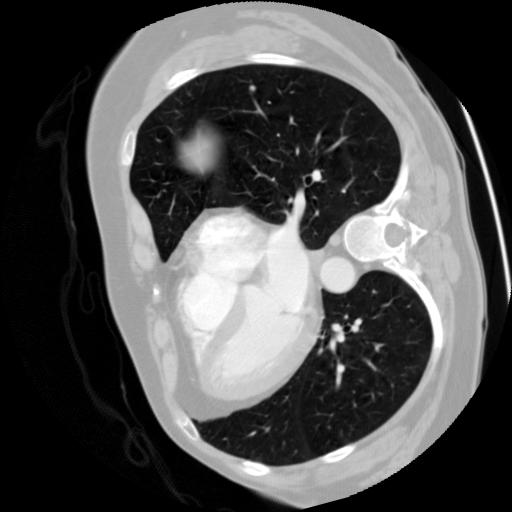nodule: (243, 78, 259, 94)
